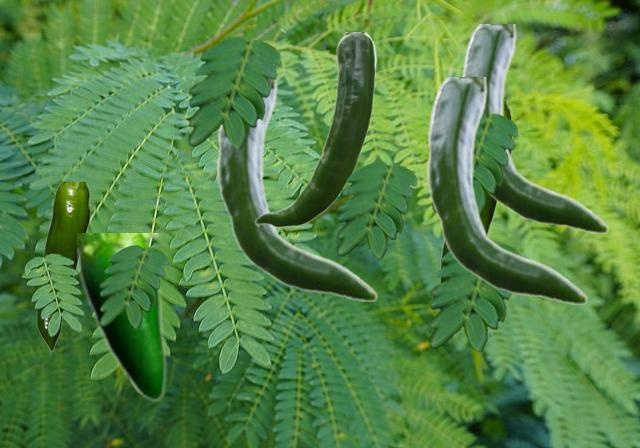green_chili: (427, 77, 587, 303), (217, 75, 377, 300), (461, 24, 608, 232), (254, 32, 376, 227), (77, 233, 166, 401), (439, 101, 511, 281), (36, 182, 89, 350)
